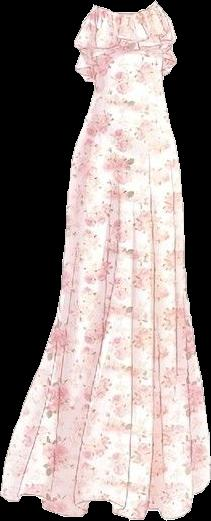Bodice: (74, 0, 176, 92)
Hemline: (0, 484, 210, 520)
Neckline: (92, 0, 158, 16)
Skirt: (0, 93, 210, 519)
Waistline: (75, 46, 176, 83), (75, 32, 175, 52), (92, 89, 165, 97)
